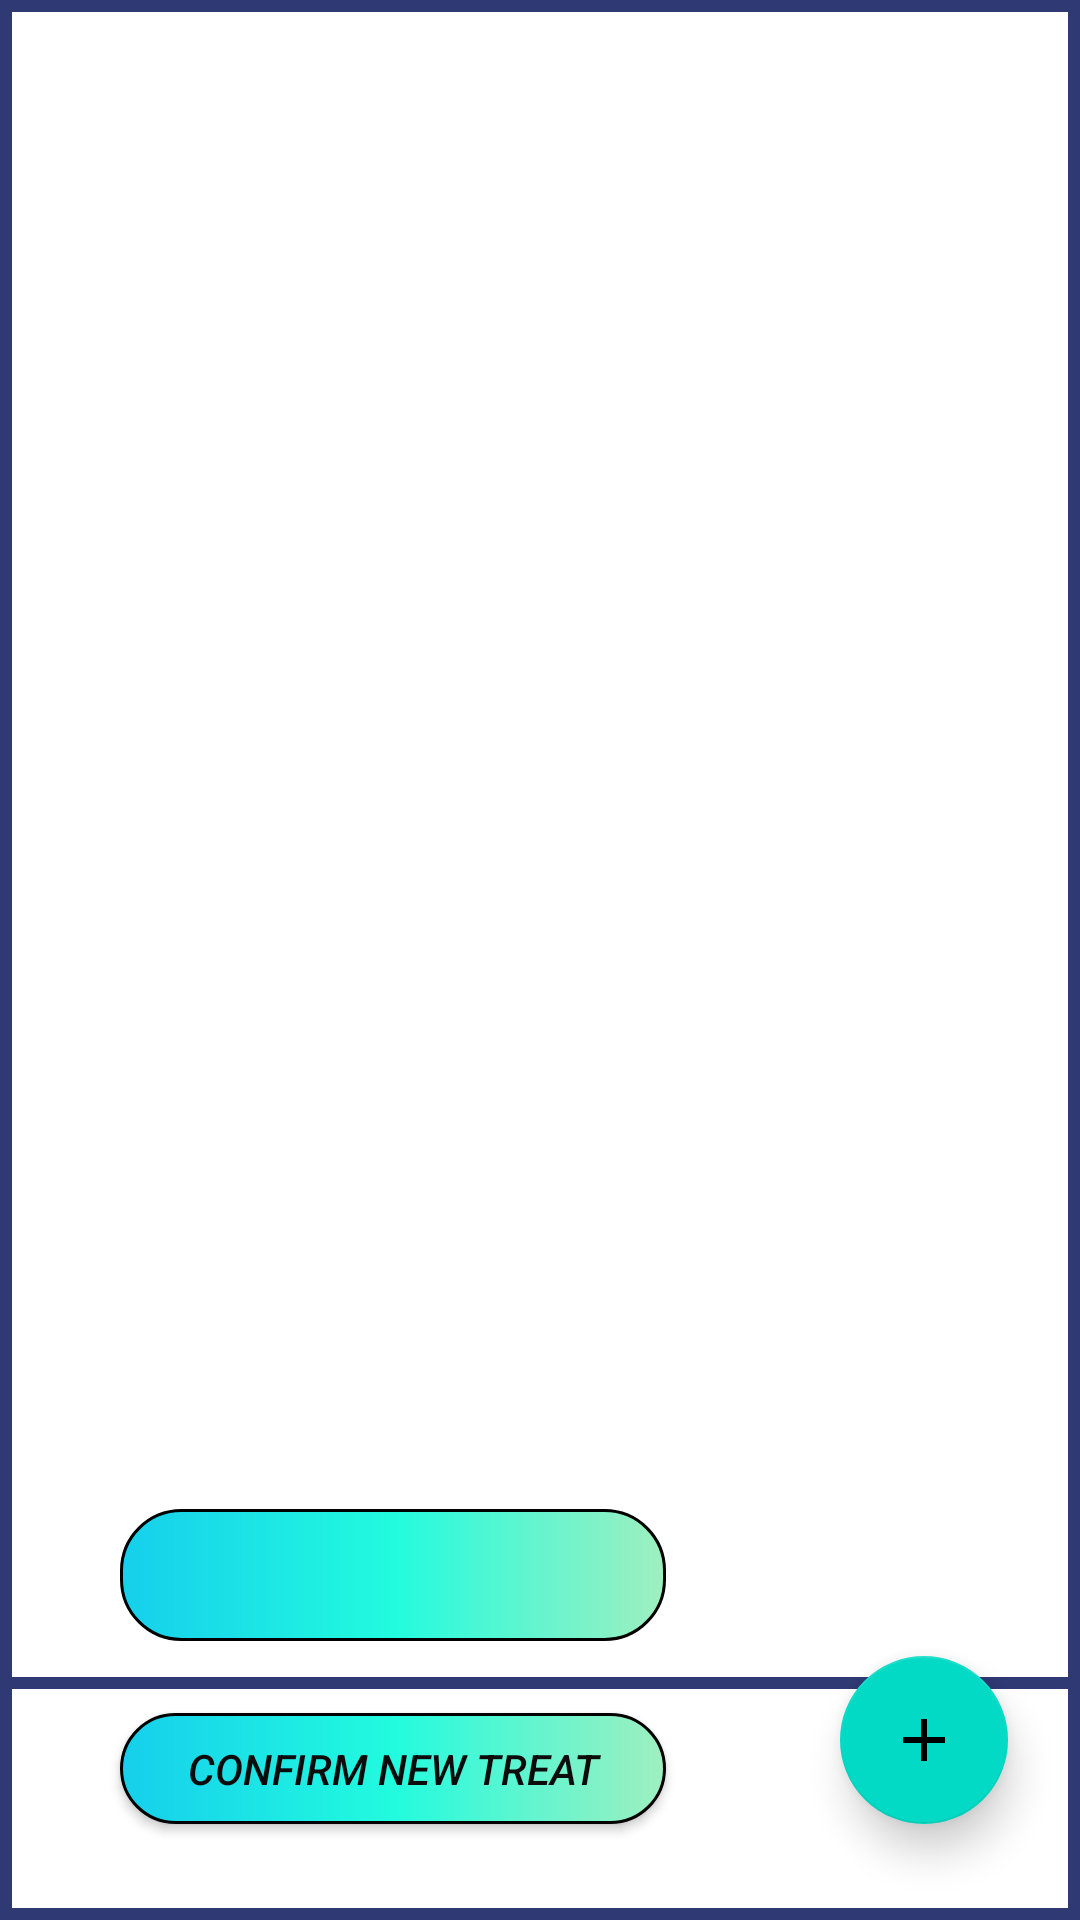

Point at icon controls on the screen. Image size 1080×1920, points as [x,y].
add: [924,1740]
